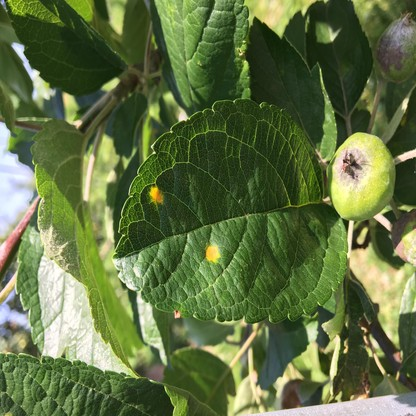rust: (205, 246, 221, 263), (150, 187, 164, 204)
